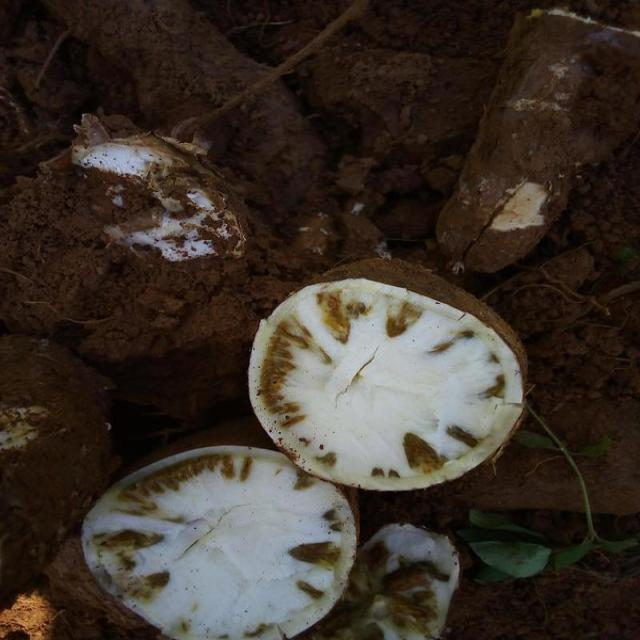cassava leaf: (248, 263, 530, 492), (81, 443, 358, 638)
